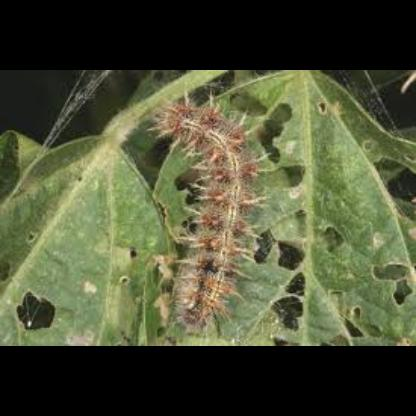agujero: (255, 84, 295, 172), (8, 289, 60, 343), (370, 259, 414, 307), (374, 158, 416, 208), (266, 292, 314, 330), (335, 306, 383, 342), (172, 160, 206, 208), (312, 222, 358, 250), (252, 223, 276, 268), (278, 238, 309, 272), (282, 270, 316, 298), (284, 164, 306, 194), (20, 226, 44, 250), (268, 329, 300, 347), (322, 329, 349, 347), (312, 101, 338, 119), (357, 133, 375, 155), (122, 248, 141, 266), (0, 257, 13, 282), (115, 273, 133, 289)
oruga: (152, 87, 264, 332)
